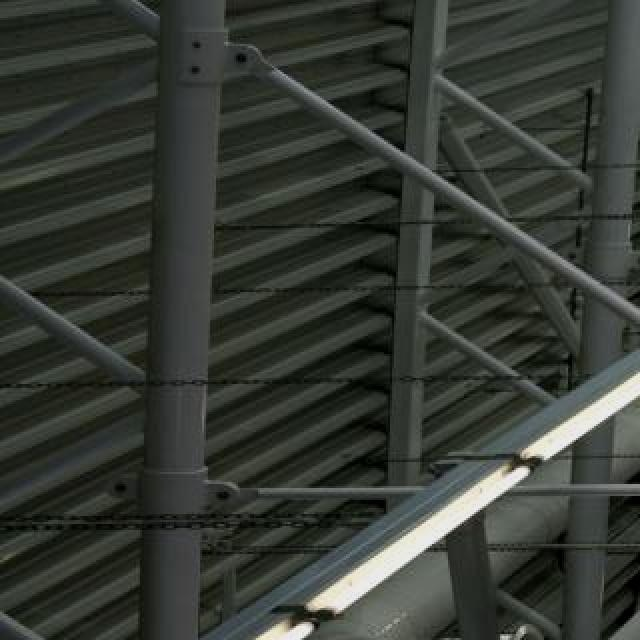fluorescent tube: (300, 448, 548, 640), (510, 342, 640, 478), (0, 596, 342, 640)
